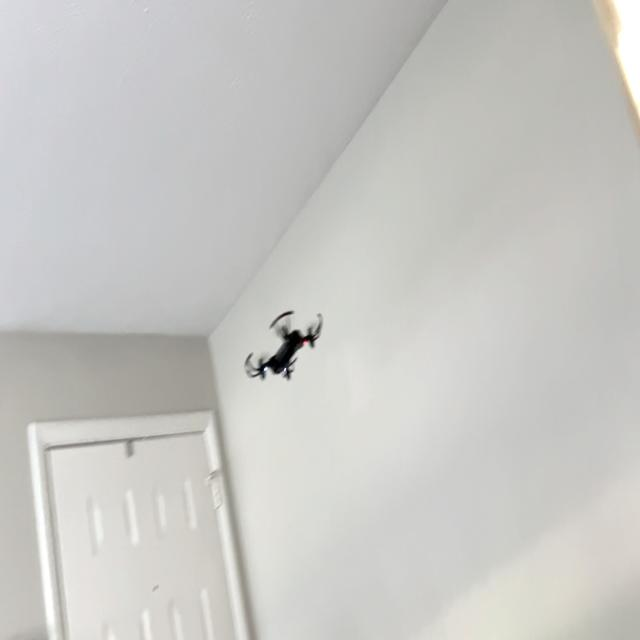drone: (241, 298, 328, 401)
